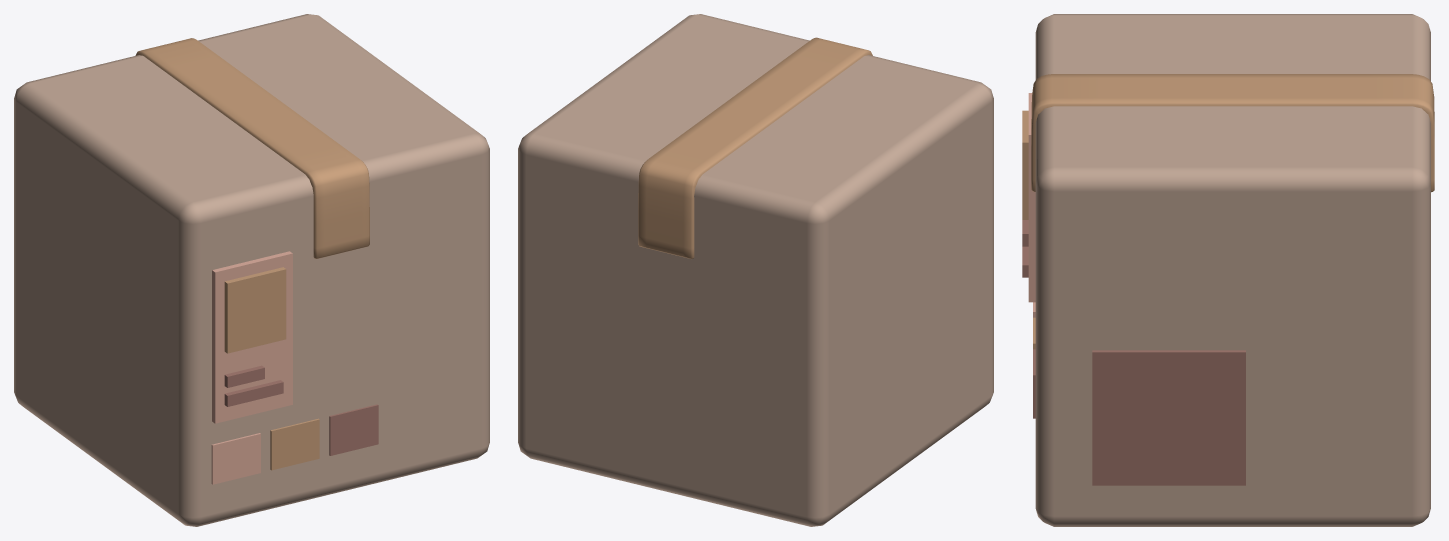
The picture shows the model from 3 angles, left to right: view 1: azimuth 30°, elevation 25°; view 2: azimuth 150°, elevation 25°; view 3: azimuth 270°, elevation 25°; orthographic projection. The views are drawn at different scales.
Visible parts, largest first — view 1: Cube, Cube 2, Rectangle 2, Rectangle 3, Rectangle 8, Rectangle 7, Rectangle 6, Rectangle 5, Rectangle 4; view 2: Cube, Cube 2; view 3: Cube, Rectangle 9, Cube 2, Rectangle 2, Rectangle 3.
Boxes of the visible parts, box(x1,y1,x2,y2) form: Cube: box(14, 14, 489, 526); Cube 2: box(135, 38, 369, 258); Rectangle 2: box(212, 251, 292, 423); Rectangle 3: box(224, 267, 286, 353); Rectangle 8: box(329, 404, 378, 455); Rectangle 7: box(270, 418, 319, 470); Rectangle 6: box(211, 433, 260, 484); Rectangle 5: box(224, 380, 283, 406); Rectangle 4: box(224, 365, 264, 387); Cube: box(518, 14, 993, 526); Cube 2: box(638, 37, 872, 258); Cube: box(1035, 14, 1430, 526); Rectangle 9: box(1092, 350, 1245, 485); Cube 2: box(1031, 74, 1434, 192); Rectangle 2: box(1028, 93, 1035, 302); Rectangle 3: box(1022, 110, 1028, 219).
Size of the model in its own units: 0.7433 by 0.7412 by 0.7665.
